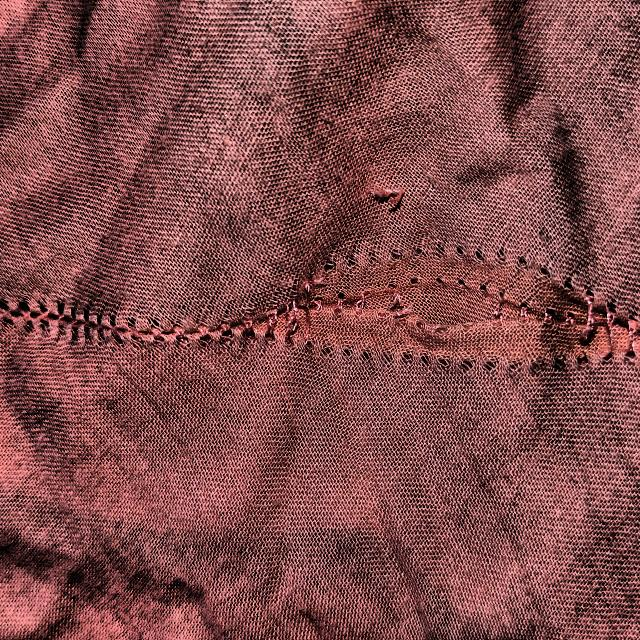seam: (208, 228, 640, 382)
